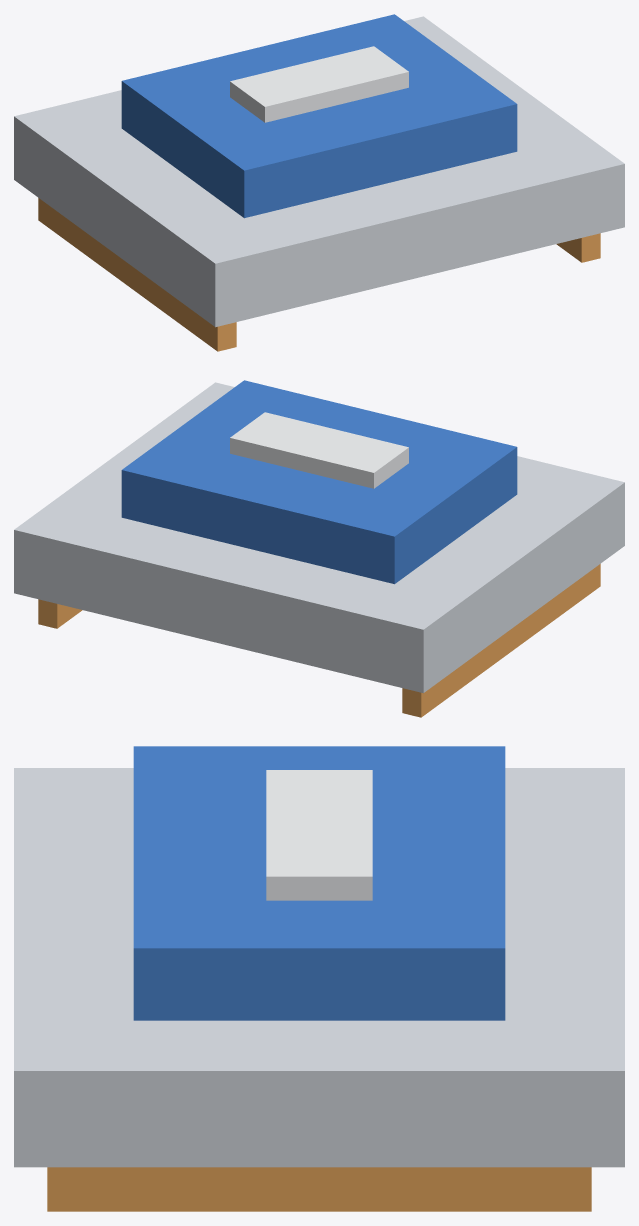
The model's file is cpu-chip.glb.
3 renders of one model, top to bottom at view 1: azimuth 30°, elevation 25°; view 2: azimuth 150°, elevation 25°; view 3: azimuth 270°, elevation 25°, orthographic. The views are drawn at different scales.
Visible parts, largest first — view 1: cpu base, cpu core, label, pin row 1, pin row 2; view 2: cpu base, cpu core, label, pin row 1, pin row 2; view 3: cpu base, cpu core, pin row 2, label.
Part boxes in pixels (left/top/right/bottom): cpu base: left=14, top=16, right=624, bottom=327; cpu core: left=121, top=14, right=517, bottom=218; label: left=230, top=46, right=408, bottom=122; pin row 1: left=38, top=198, right=236, bottom=351; pin row 2: left=556, top=233, right=600, bottom=262; cpu base: left=14, top=382, right=624, bottom=693; cpu core: left=121, top=380, right=517, bottom=584; label: left=230, top=412, right=408, bottom=488; pin row 1: left=402, top=564, right=600, bottom=717; pin row 2: left=38, top=599, right=82, bottom=628; cpu base: left=14, top=768, right=624, bottom=1167; cpu core: left=133, top=746, right=505, bottom=1020; pin row 2: left=47, top=1167, right=591, bottom=1211; label: left=266, top=770, right=372, bottom=900.
Bounding box in the file's own units: 1.08 × 0.41 × 0.92.
